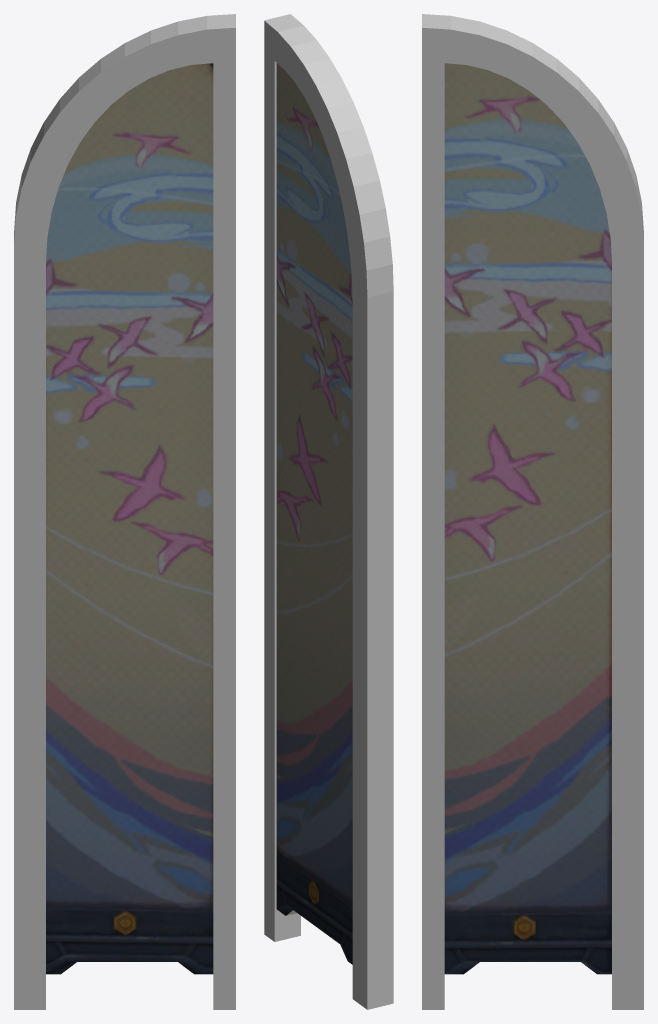
The model's file is RightMid.obj.
3 renders of one model, left to right at view 1: azimuth 90°, elevation 25°; view 2: azimuth 210°, elevation 25°; view 3: azimuth 270°, elevation 25°, orthographic. The views are drawn at different scales.
Parts seen in each view (by area): view 1: Biombo_Cube.015; view 2: Biombo_Cube.015; view 3: Biombo_Cube.015.
Part boxes in pixels (x1=…): Biombo_Cube.015: x1=14, y1=14, x2=235, y2=1009; Biombo_Cube.015: x1=264, y1=14, x2=393, y2=1009; Biombo_Cube.015: x1=422, y1=14, x2=643, y2=1009.
Size of the model in its own units: 0.1023 by 3.4 by 0.6961.
